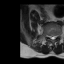CCS_stenosis: (51, 33, 53, 41)
LFS_normal: (56, 32, 58, 39)
LLS_normal: (53, 33, 56, 41)
RFS_normal: (47, 32, 49, 39)
RLS_normal: (49, 33, 51, 41)
